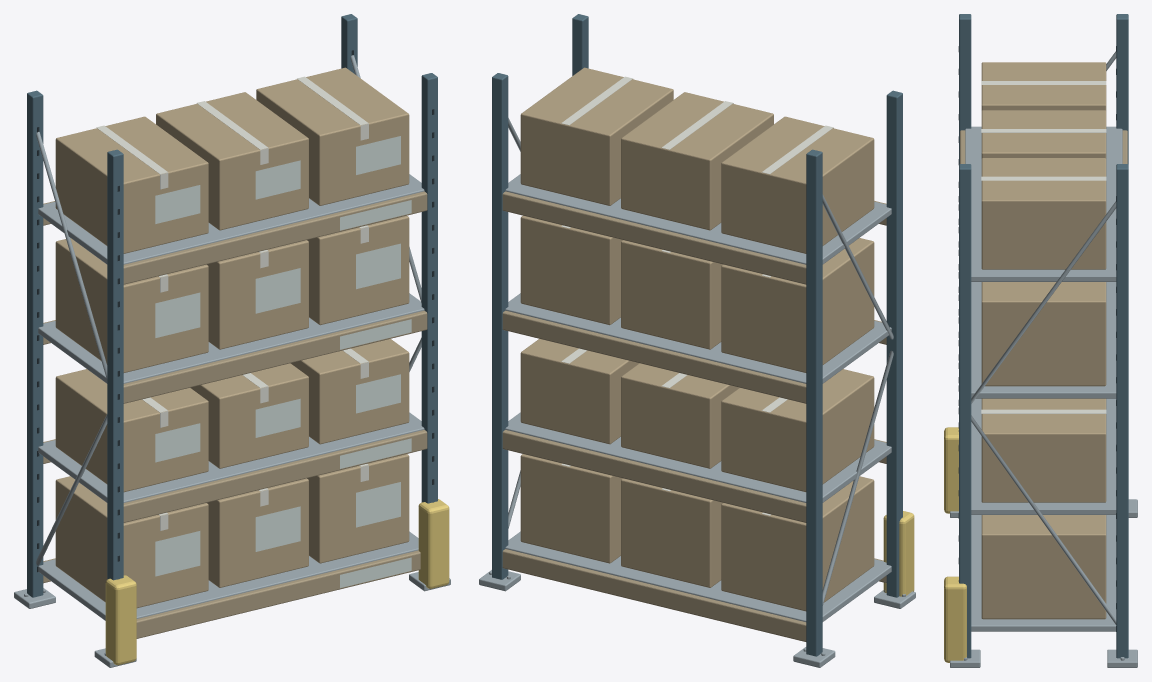
Rendered from OD_WarehouseRack_0.fbx.
The picture shows the model from 3 angles, left to right: view 1: azimuth 30°, elevation 25°; view 2: azimuth 150°, elevation 25°; view 3: azimuth 270°, elevation 25°; orthographic projection. The views are drawn at different scales.
Visible parts, largest first — view 1: OD_WarehouseRack_0; view 2: OD_WarehouseRack_0; view 3: OD_WarehouseRack_0.
Part boxes in pixels (x1=…): OD_WarehouseRack_0: x1=14, y1=14, x2=450, y2=667; OD_WarehouseRack_0: x1=479, y1=14, x2=915, y2=667; OD_WarehouseRack_0: x1=944, y1=14, x2=1137, y2=667.
Bounding box in the file's own units: 201 × 285 × 101.
